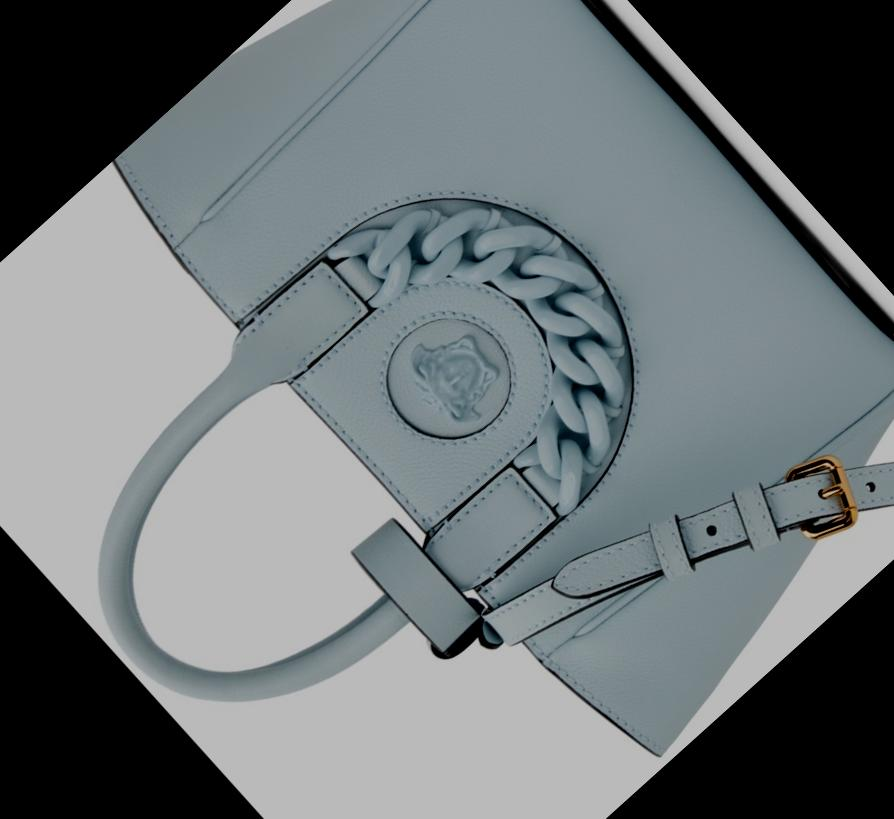VERSACE: (351, 278, 544, 472)
